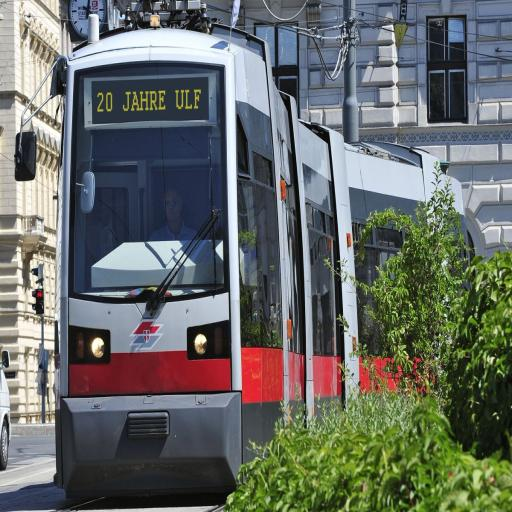ULF: (54, 22, 468, 496)
